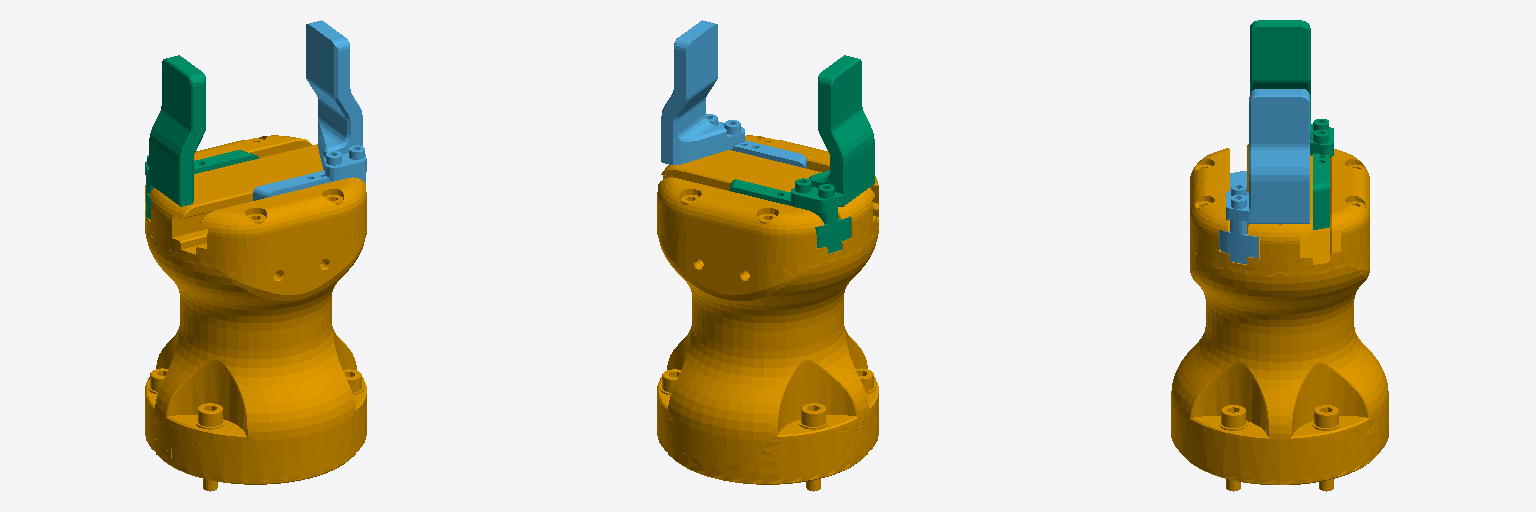
The robot description file, URDF, robot "robotiq_hande":
<?xml version="1.0" ?>
<robot name="robotiq_hande">
    <link name="hande_robotiq_hande_base_link">
        <inertial>
            <origin rpy="0 0 0" xyz="0 0 0.04607"/>
            <mass value="0.86387"/>
            <inertia ixx="1017560E-9" ixy="0" ixz="2235E-9" iyy="1028041E-9" iyz="0" izz="489810E-9"/>
        </inertial>
        <visual>
            <origin rpy="0 0 0" xyz="0 0 0"/>
            <geometry>
                <mesh filename="../meshes/hand-e.obj" scale="0.001 0.001 0.001"/>
            </geometry>
        </visual>
        <collision>
            <origin rpy="0 0 0" xyz="0 0 0"/>
            <geometry>
                <mesh filename="../meshes/hand-e.obj" scale="0.001 0.001 0.001"/>
            </geometry>
        </collision>
    </link>
    <link name="hande_left_finger">
        <inertial>
            <origin rpy="0 0 0" xyz="0.02262 -0.00759 0.00738"/>
            <mass value="0.03804"/>
            <inertia ixx="13567E-9" ixy="0" ixz="0" iyy="15784E-9" iyz="0" izz="7478E-9"/>
        </inertial>
        <visual>
            <origin rpy="0 0 0" xyz="0 0 0"/>
            <geometry>
                <mesh filename="../meshes/finger_1.obj" scale="0.001 0.001 0.001"/>
            </geometry>
        </visual>
        <collision>
            <origin rpy="0 0 0" xyz="0 0 0"/>
            <geometry>
                <mesh filename="../meshes/finger_1.obj" scale="0.001 0.001 0.001"/>
            </geometry>
        </collision>
    </link>
    <link name="hande_right_finger">
        <inertial>
            <origin rpy="0 0 0" xyz="-0.02262 0.00759 0.00738"/>
            <mass value="0.03804"/>
            <inertia ixx="13567E-9" ixy="0.0" ixz="0.0" iyy="15784E-9" iyz="0.0" izz="7478E-9"/>
        </inertial>
        <visual>
            <origin rpy="0 0 0" xyz="0 0 0"/>
            <geometry>
                <mesh filename="../meshes/finger_2.obj" scale="0.001 0.001 0.001"/>
            </geometry>
        </visual>
        <collision>
            <origin rpy="0 0 0" xyz="0 0 0"/>
            <geometry>
                <mesh filename="../meshes/finger_2.obj" scale="0.001 0.001 0.001"/>
            </geometry>
        </collision>
    </link>
    <joint name="hande_joint_left_finger" type="fixed">
        <origin rpy="0 0 0" xyz="0 0 0.099"/>
        <parent link="hande_robotiq_hande_base_link"/>
        <child link="hande_left_finger"/>
        <axis xyz="-1 0 0"/>
        <limit effort="130" lower="0" upper="0.025" velocity="0.15"/>
    </joint>
    <joint name="hande_joint_right_finger" type="fixed">
        <origin rpy="0 0 0" xyz="0 0 0.099"/>
        <parent link="hande_robotiq_hande_base_link"/>
        <child link="hande_right_finger"/>
        <axis xyz="1 0 0"/>
        <limit effort="130" lower="0" upper="0.025" velocity="0.15"/>
    </joint>
</robot>

--- Render facts (derived) ---
3 views of the same robot in one strip: view 1: azimuth 30°, elevation 25°; view 2: azimuth 150°, elevation 25°; view 3: azimuth 270°, elevation 25° (orthographic).
Robot: robotiq_hande — 3 links, 2 joints (2 fixed); root link hande_robotiq_hande_base_link; default pose: all joints at 0.
Links seen in each view (by area): view 1: hande_robotiq_hande_base_link, hande_left_finger, hande_right_finger; view 2: hande_robotiq_hande_base_link, hande_right_finger, hande_left_finger; view 3: hande_robotiq_hande_base_link, hande_left_finger, hande_right_finger.
Link boxes in pixels (x1,y1,x2,y2): hande_robotiq_hande_base_link: (145,135,366,491); hande_left_finger: (253,20,366,200); hande_right_finger: (145,55,258,220); hande_robotiq_hande_base_link: (657,135,878,491); hande_right_finger: (729,55,874,253); hande_left_finger: (661,20,806,168); hande_robotiq_hande_base_link: (1171,144,1388,491); hande_left_finger: (1219,89,1309,263); hande_right_finger: (1250,20,1333,229).
Size in the robot's own frame: 0.075 by 0.075 by 0.1511 metres.
Meshes: 3 distinct files referenced, 3 mesh visuals loaded (3 OBJ).
